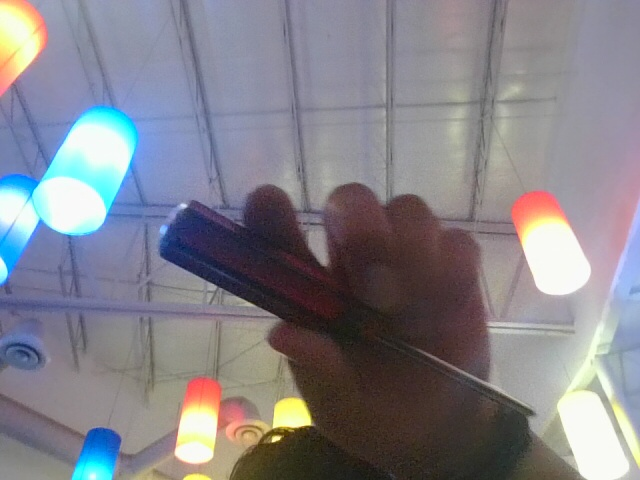destornillador: (155, 180, 544, 430)
